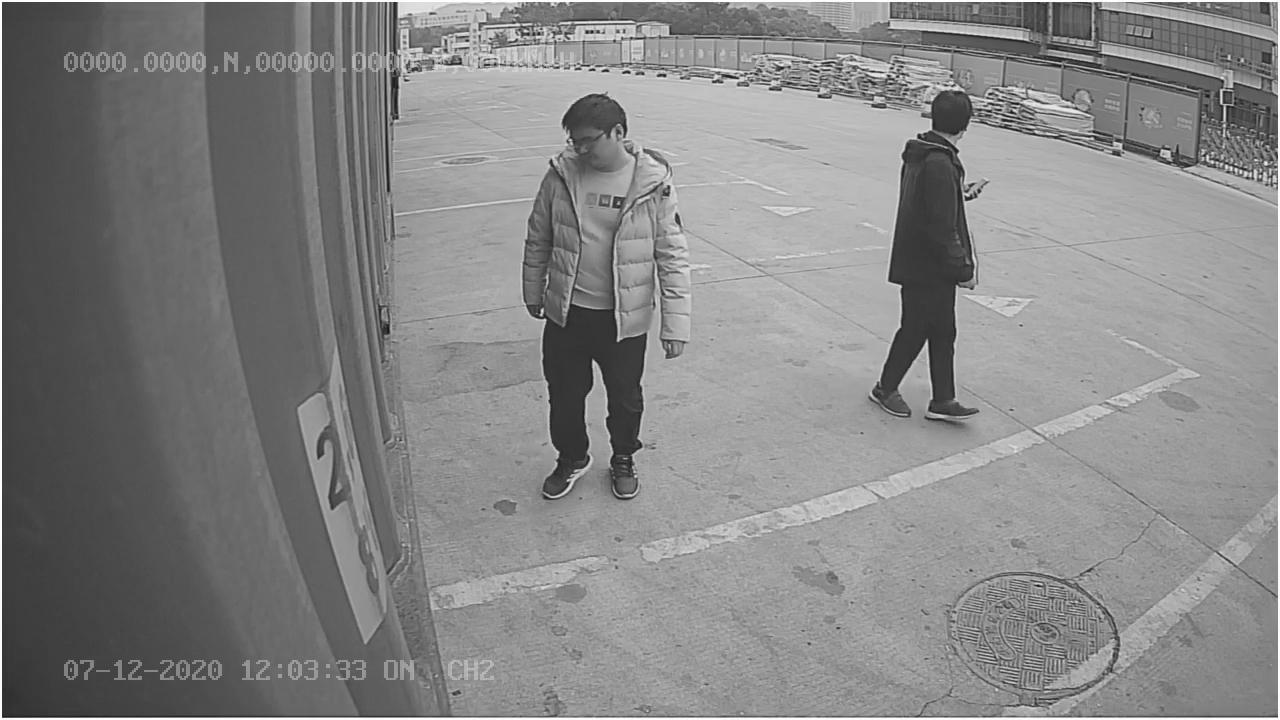person: (513, 94, 691, 506), (865, 75, 984, 427)
